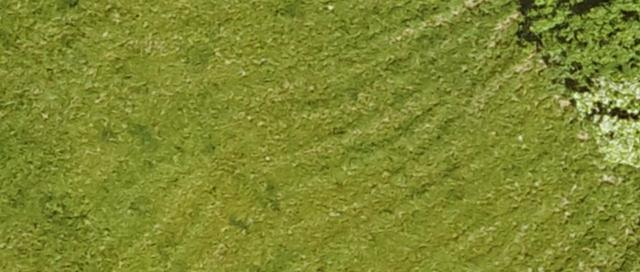tree: (529, 2, 640, 117)
